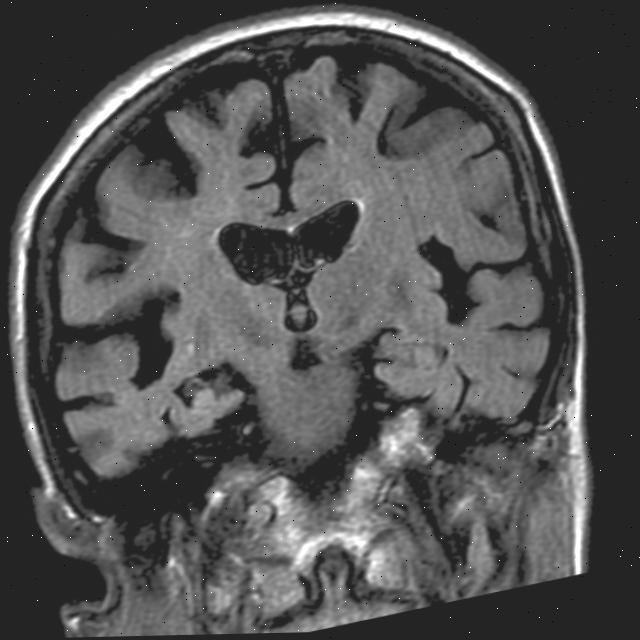NoTumor: (0, 0, 628, 526)
